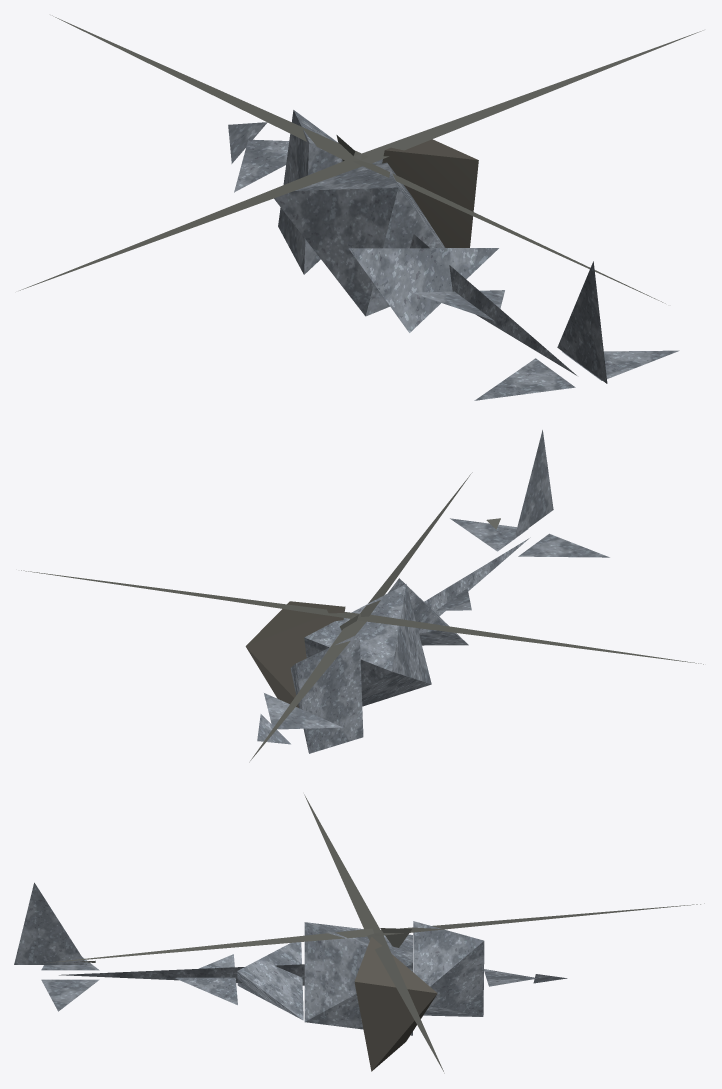
File: aew_e3_uk_aewhelo_LOD2.glb
The picture shows the model from 3 angles, top to bottom: view 1: azimuth 30°, elevation 25°; view 2: azimuth 150°, elevation 25°; view 3: azimuth 270°, elevation 25°; orthographic projection. The views are drawn at different scales.
Visible parts, largest first — view 1: aew_e3_uk_aewhelo_LOD2_body, aew_e3_uk_aewhelo_LOD2_gun, aew_e3_uk_aewhelo_LOD2_deck; view 2: aew_e3_uk_aewhelo_LOD2_body, aew_e3_uk_aewhelo_LOD2_gun, aew_e3_uk_aewhelo_LOD2_deck; view 3: aew_e3_uk_aewhelo_LOD2_body, aew_e3_uk_aewhelo_LOD2_deck, aew_e3_uk_aewhelo_LOD2_gun.
Part boxes in pixels (bbox=[...]): aew_e3_uk_aewhelo_LOD2_body: bbox=[228, 110, 679, 400]; aew_e3_uk_aewhelo_LOD2_gun: bbox=[19, 15, 703, 303]; aew_e3_uk_aewhelo_LOD2_deck: bbox=[382, 139, 478, 247]; aew_e3_uk_aewhelo_LOD2_body: bbox=[257, 430, 609, 753]; aew_e3_uk_aewhelo_LOD2_gun: bbox=[21, 472, 703, 762]; aew_e3_uk_aewhelo_LOD2_deck: bbox=[245, 601, 345, 707]; aew_e3_uk_aewhelo_LOD2_body: bbox=[14, 882, 567, 1035]; aew_e3_uk_aewhelo_LOD2_deck: bbox=[354, 937, 437, 1071]; aew_e3_uk_aewhelo_LOD2_gun: bbox=[43, 794, 704, 1073].
Size of the model in its own units: 18.2 by 4.59 by 18.92.
3 materials, 1 textured.
